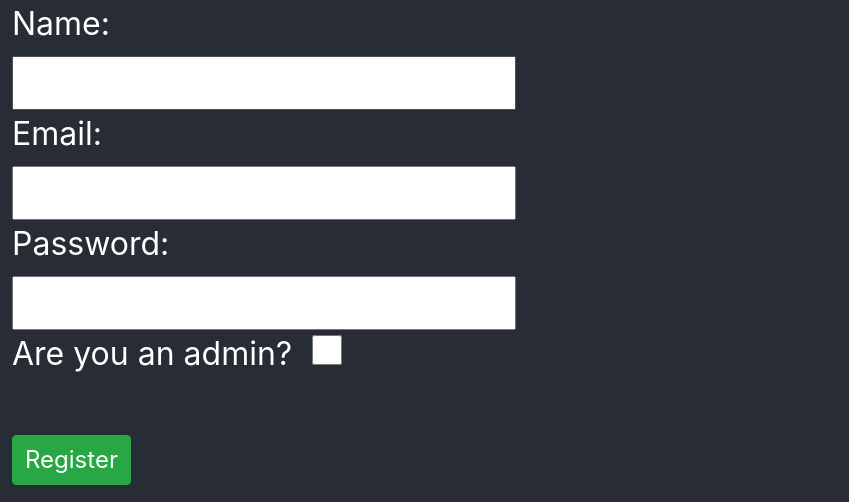
Auth Form tests › Appearence of minLength alert
The image size is (849, 502).
Step 1. Type "q" into the field labelled "Name:" → {"x": 264, "y": 83}, box 12,56 -> 516,110
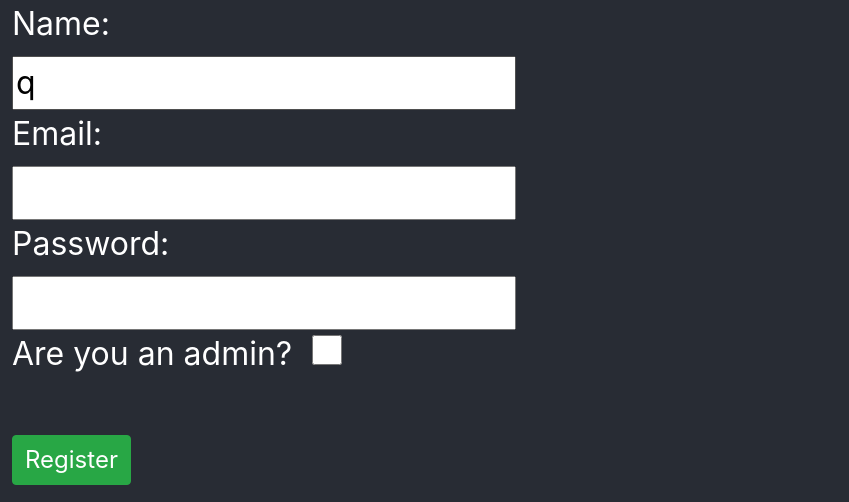
Step 2. Type "q" into the password field with test id "password-field" → {"x": 264, "y": 303}, box 12,276 -> 516,330
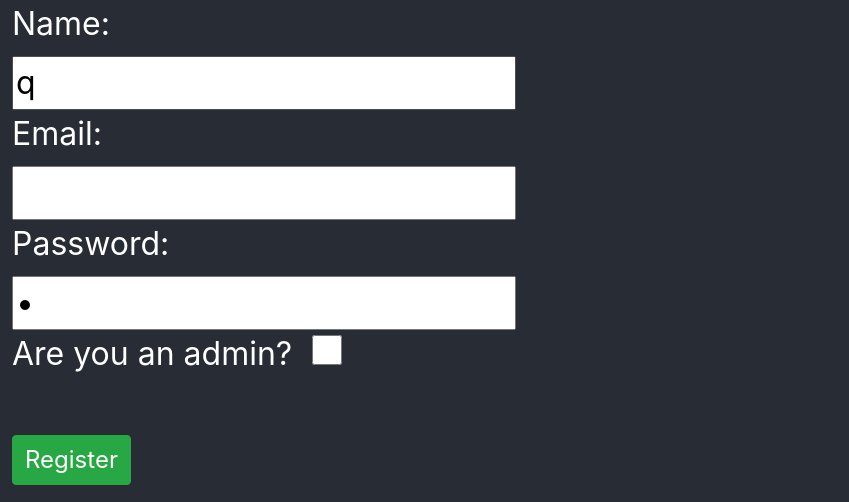
Step 3. Submit the form with test id "form", box 12,4 -> 516,485
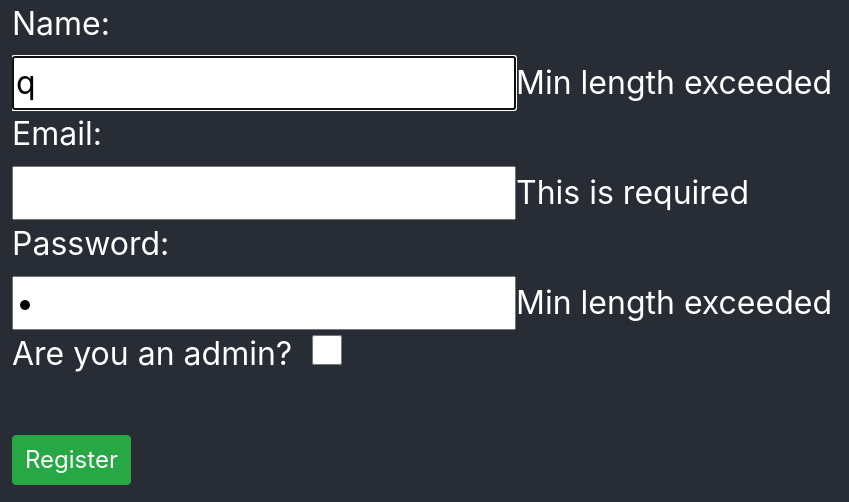
Expected: the text "Min length exceeded" is shown 2 times, 516,63 -> 832,102; 516,283 -> 832,322
